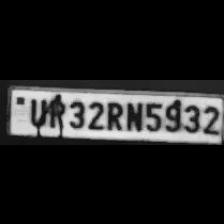2: (200, 100, 220, 134), (84, 97, 104, 129)
3: (64, 96, 86, 128), (182, 100, 200, 132)
5: (142, 97, 162, 130)
9: (163, 97, 181, 131)
N: (124, 97, 142, 130)
R: (103, 97, 123, 130), (46, 95, 64, 127)
U: (26, 96, 46, 127)
